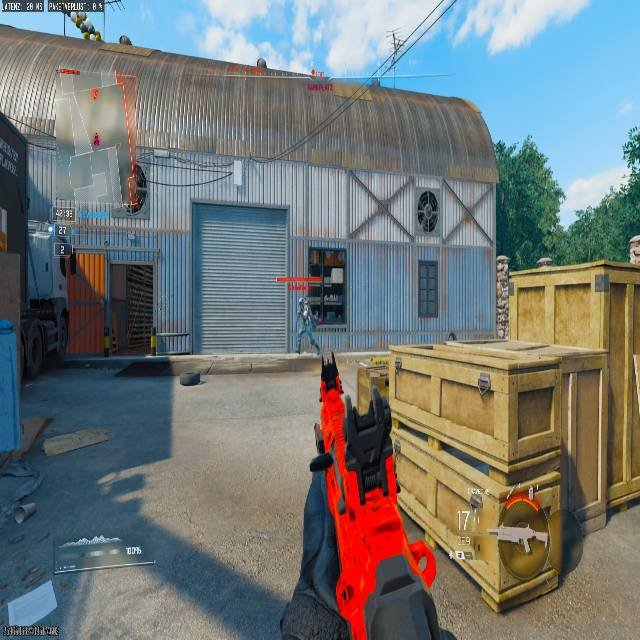head: (298, 296, 305, 305)
player: (296, 296, 319, 351), (125, 162, 147, 214), (415, 190, 439, 234)
